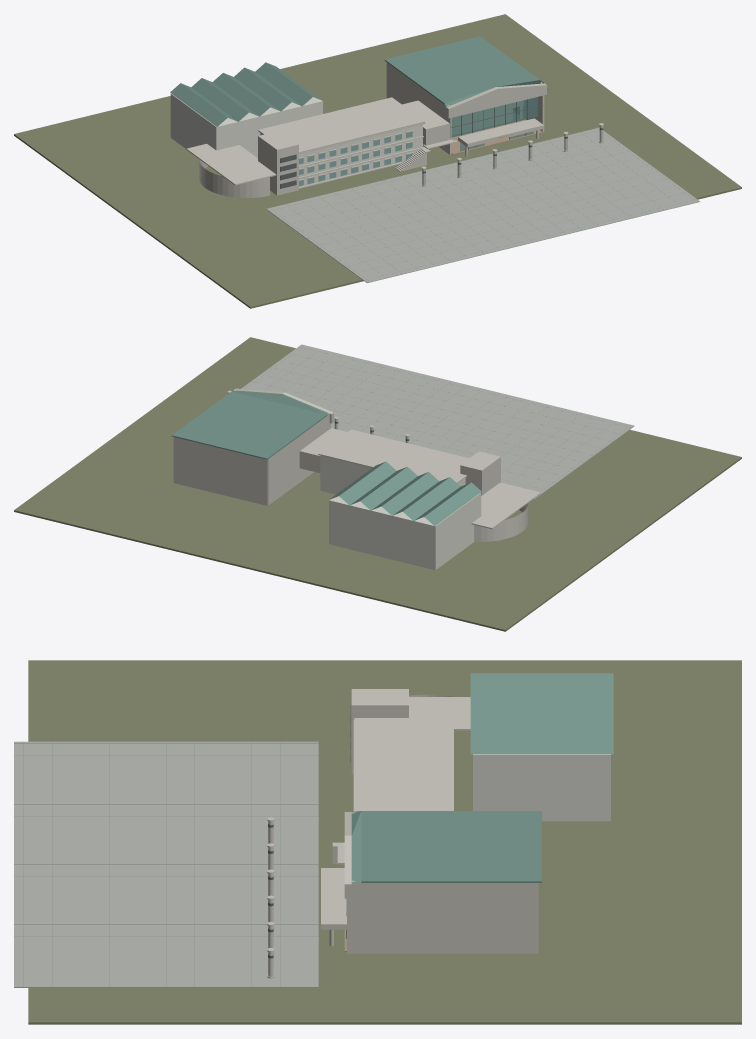
File: sycc.glb
3 views of the same model, one above another, from view 1: azimuth 30°, elevation 25°; view 2: azimuth 150°, elevation 25°; view 3: azimuth 270°, elevation 25° (orthographic). The views are drawn at different scales.
Parts seen in each view (by area): view 1: Site context plane, Rainbow plaza · historic grid extent, TrainingWing · Warm light stone · photo approximation, Onnuri · Historical green roofing, RearVolume · Historical green roofing, Onnuri · Warm light stone · photo approximation, Rear pale envelope, Training wing main mass, WestVolume · Warm light stone · photo approximation, Onnuri · Blue green entrance glazing, TrainingWing · Blue green entrance glazing, Onnuri · Light rear timber slats · 2026 photo-informed (+3 smaller); view 2: Site context plane, Rainbow plaza · historic grid extent, Rear pale envelope, Onnuri · Warm light stone · photo approximation, Onnuri · Historical green roofing, TrainingWing · Warm light stone · photo approximation, RearVolume · Historical green roofing, WestVolume · Warm light stone · photo approximation, Training wing main mass, Site · Paving joint; view 3: Site context plane, Rainbow plaza · historic grid extent, Onnuri · Warm light stone · photo approximation, Onnuri · Historical green roofing, RearVolume · Historical green roofing, TrainingWing · Warm light stone · photo approximation, Rear pale envelope, Site · Paving joint, WestVolume · Warm light stone · photo approximation, Site · Warm light stone · photo approximation.
Boxes of the visible parts, box(x1,y1,x2,y2) form: Site context plane: box(14, 14, 741, 308); Rainbow plaza · historic grid extent: box(266, 127, 700, 282); TrainingWing · Warm light stone · photo approximation: box(258, 97, 455, 195); Onnuri · Historical green roofing: box(384, 36, 543, 107); RearVolume · Historical green roofing: box(170, 62, 322, 126); Onnuri · Warm light stone · photo approximation: box(386, 62, 546, 156); Rear pale envelope: box(170, 93, 322, 157); Training wing main mass: box(260, 124, 422, 186); WestVolume · Warm light stone · photo approximation: box(186, 143, 276, 198); Onnuri · Blue green entrance glazing: box(451, 97, 537, 151); TrainingWing · Blue green entrance glazing: box(299, 131, 412, 186); Onnuri · Light rear timber slats · 2026 photo-informed: box(452, 100, 523, 135); Site context plane: box(14, 337, 741, 631); Rainbow plaza · historic grid extent: box(241, 344, 634, 499); Rear pale envelope: box(329, 493, 481, 570); Onnuri · Warm light stone · photo approximation: box(172, 388, 333, 505); Onnuri · Historical green roofing: box(171, 390, 330, 459); TrainingWing · Warm light stone · photo approximation: box(299, 428, 500, 495); RearVolume · Historical green roofing: box(329, 461, 481, 525); WestVolume · Warm light stone · photo approximation: box(471, 482, 540, 541); Training wing main mass: box(320, 455, 465, 494); Site · Paving joint: box(244, 346, 629, 490); Site context plane: box(28, 660, 741, 1024); Rainbow plaza · historic grid extent: box(14, 741, 318, 987); Onnuri · Warm light stone · photo approximation: box(321, 812, 538, 953); Onnuri · Historical green roofing: box(351, 811, 541, 884); RearVolume · Historical green roofing: box(470, 673, 613, 754); TrainingWing · Warm light stone · photo approximation: box(332, 689, 453, 864); Rear pale envelope: box(473, 754, 610, 821); Site · Paving joint: box(14, 742, 318, 986); WestVolume · Warm light stone · photo approximation: box(409, 694, 470, 730); Site · Warm light stone · photo approximation: box(267, 817, 274, 978).
Bounding box in the file's own units: 180 × 20.05 × 153.
